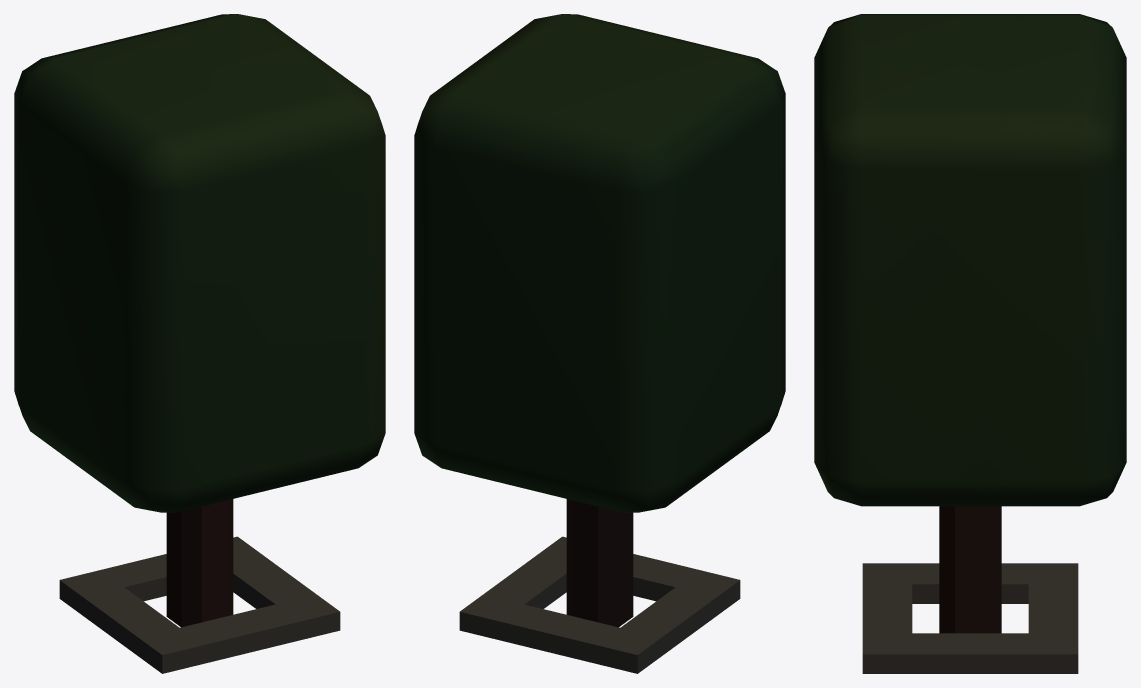
File: tree.fbx
3 renders of one model, left to right at view 1: azimuth 30°, elevation 25°; view 2: azimuth 150°, elevation 25°; view 3: azimuth 270°, elevation 25°, orthographic. The views are drawn at different scales.
Visible parts, largest first — view 1: factory_tree_a01; view 2: factory_tree_a01; view 3: factory_tree_a01.
Part boxes in pixels (bbox=[...]): factory_tree_a01: bbox=[14, 14, 385, 673]; factory_tree_a01: bbox=[414, 14, 785, 673]; factory_tree_a01: bbox=[814, 14, 1126, 673].
Bounding box in the file's own units: 1 × 2 × 1.
